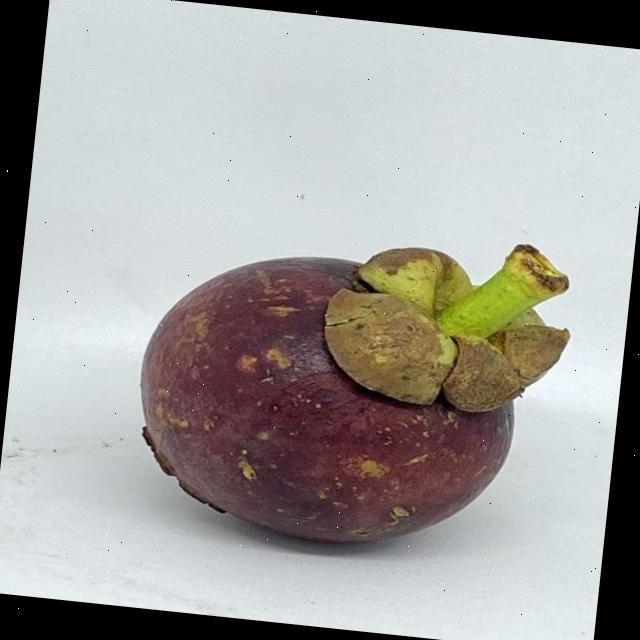mangosteen: (85, 195, 584, 604)
